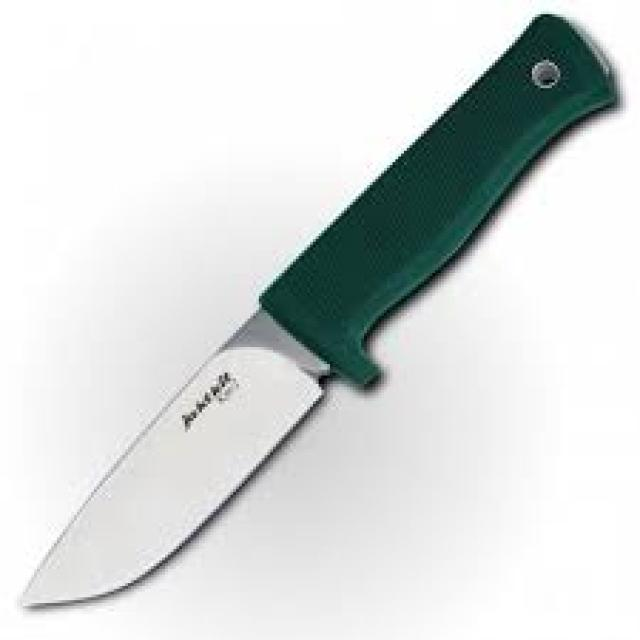knives: (14, 6, 623, 614)
